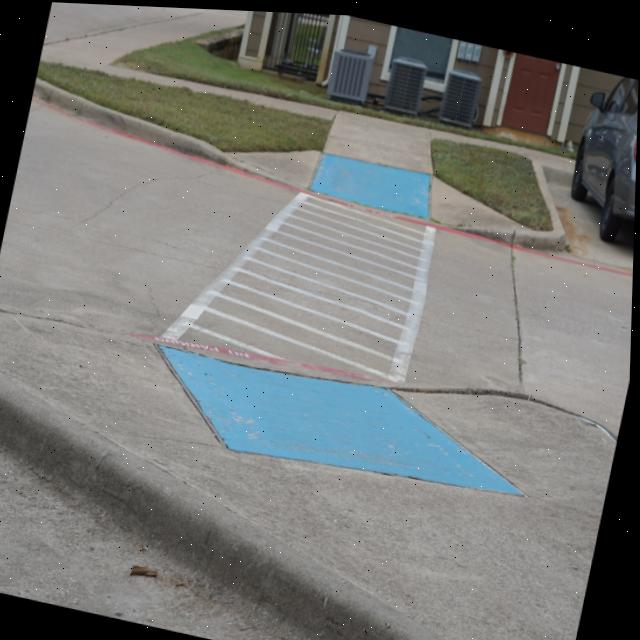Automobile: (572, 71, 639, 236)
Road: (0, 95, 635, 431), (0, 431, 361, 640), (44, 2, 246, 42)
Sidewalk: (0, 317, 619, 640), (40, 7, 566, 244)
